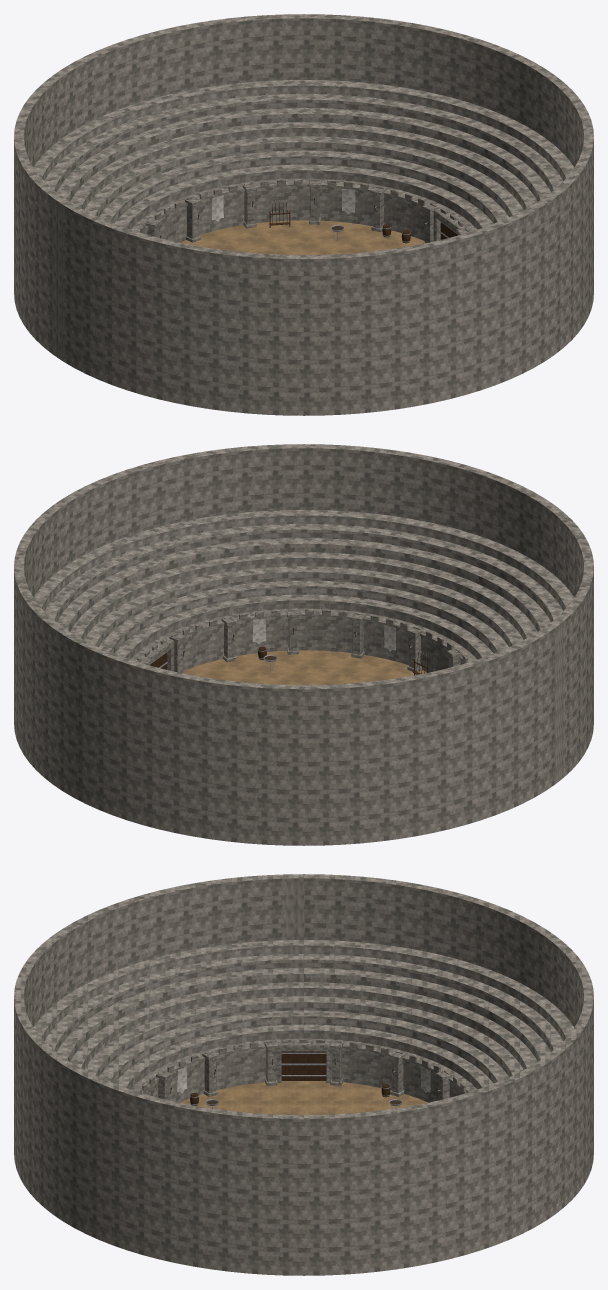
Rendered from arena.glb.
3 views of the same model, one above another, from view 1: azimuth 30°, elevation 25°; view 2: azimuth 150°, elevation 25°; view 3: azimuth 270°, elevation 25° (orthographic).
Visible parts, largest first — view 1: wall, floor, pillars, gates, banners; view 2: wall, floor, pillars, gates, banners; view 3: wall, floor, pillars, gates.
Part boxes in pixels (x1,y1,x2,y2): wall: [14, 14, 593, 415]; floor: [180, 220, 424, 254]; pillars: [145, 179, 470, 243]; gates: [433, 207, 471, 241]; banners: [212, 188, 355, 221]; wall: [14, 444, 593, 845]; floor: [183, 650, 426, 684]; pillars: [137, 609, 462, 673]; gates: [136, 637, 174, 671]; banners: [252, 618, 395, 651]; wall: [14, 874, 593, 1275]; floor: [180, 1081, 427, 1114]; pillars: [156, 1040, 451, 1100]; gates: [276, 1040, 331, 1082].
Bounding box in the file's own units: 47 × 14.1 × 47.
Materials: 8 (6 with a texture image).
